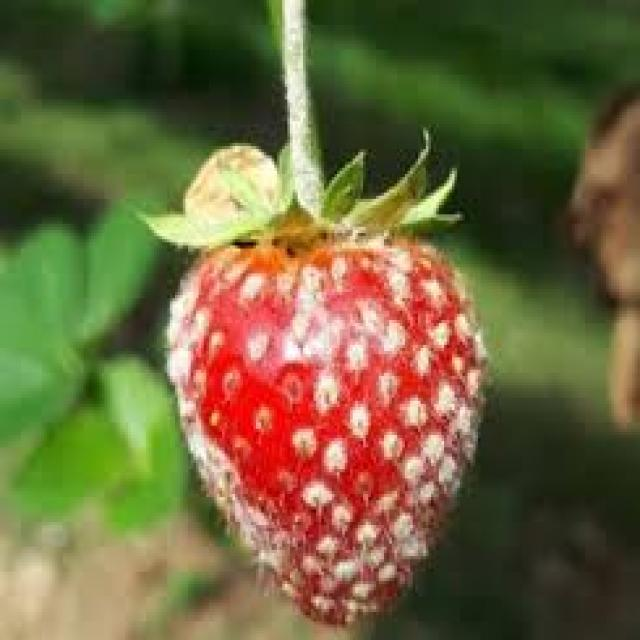Oído: (130, 187, 484, 602)
